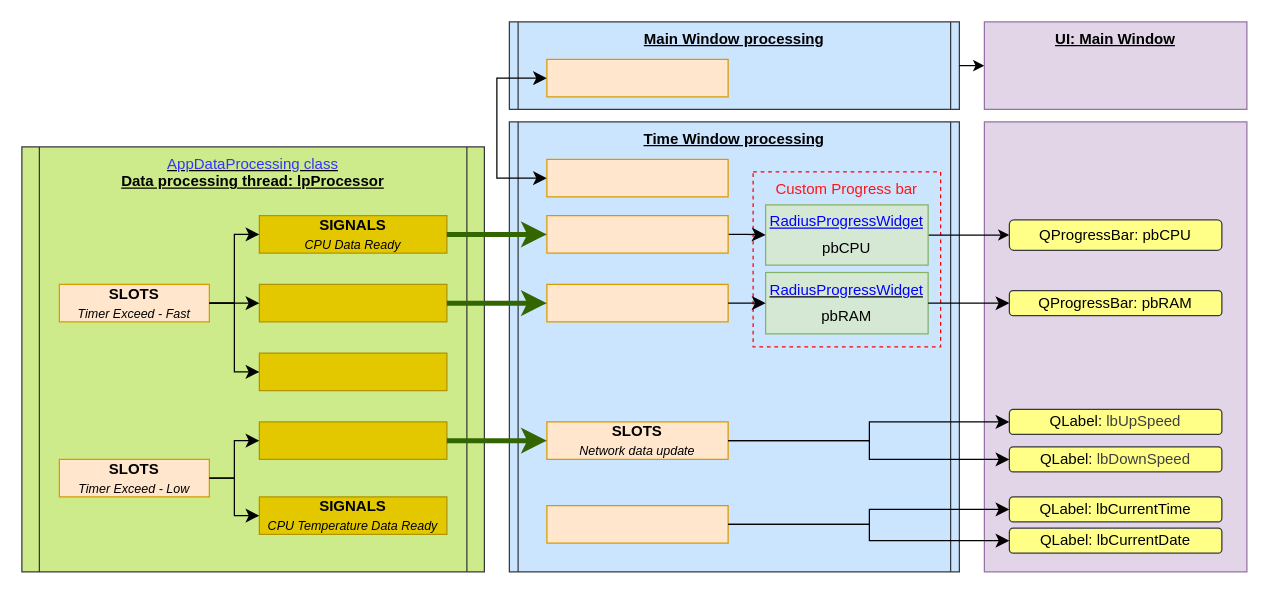
Some shapes in this 1269 by 594 pixel diagram are drawn without their labels. The box of each missing label's shape, as (x1, y1, x2, y2) in pixels:
SIGNALS Network Data Ready: (258, 421, 447, 459)
SIGNALS RAM Data Ready: (258, 283, 447, 322)
SIGNALS Sub-CPU Data Ready: (258, 352, 447, 391)
SLOTS Back button event: (546, 158, 728, 197)
SLOTS CPU usage information update: (546, 214, 728, 253)
SLOTS Memory Window open: (546, 58, 728, 97)
SLOTS RAM usage information update: (546, 283, 728, 322)
SLOTS Timer exceed: (546, 504, 728, 543)
UI: Time Window: (983, 121, 1247, 572)
